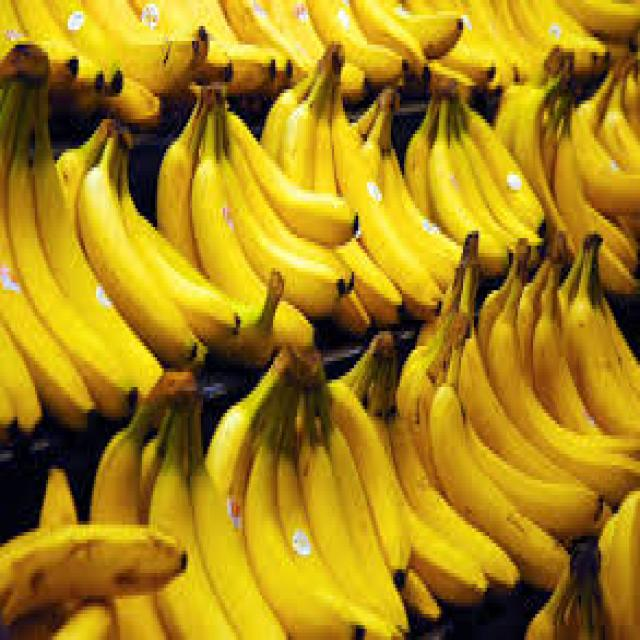Banana: (404, 238, 636, 591), (0, 39, 167, 422), (158, 60, 358, 364), (206, 347, 411, 636), (261, 42, 444, 332), (92, 372, 289, 640), (63, 115, 244, 363), (500, 45, 639, 295), (406, 85, 546, 262), (0, 521, 186, 621)
